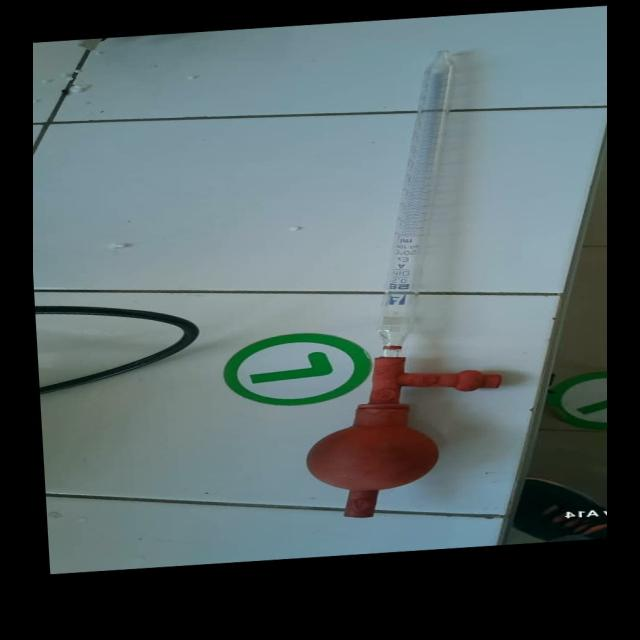Droppers: (268, 57, 520, 531)
